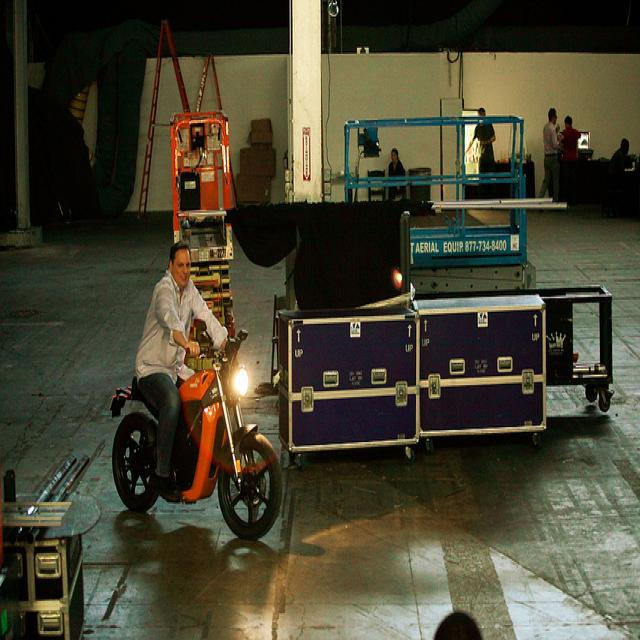motor: (109, 329, 283, 541)
